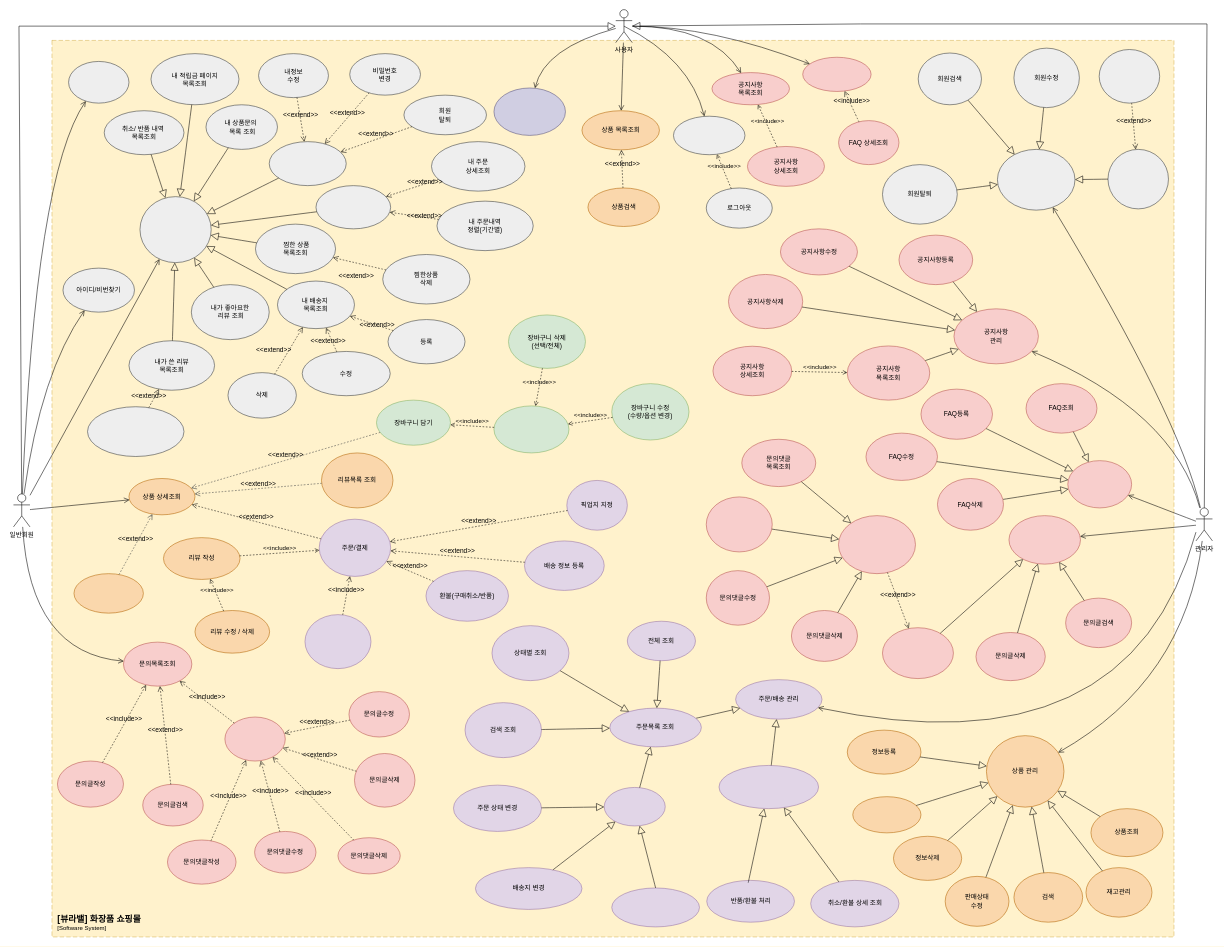
Image size: 1224x947. Some labels were removed from this diagram. Here are the shapes that lost their labels. From the top down, the box of each, then its label:
(68, 61, 129, 103): 회원가입
(802, 57, 871, 91): FAQ 목록조회
(1099, 49, 1160, 103): 회원상세조회
(493, 87, 565, 135): 1:1 채팅
(673, 116, 745, 155): 로그인
(269, 141, 346, 186): 내정보 조회
(997, 149, 1075, 210): 회원관리
(1107, 149, 1168, 209): 회원목록조회
(315, 185, 391, 229): 구매내역 목록조회
(139, 196, 211, 263): 마이페이지
(87, 406, 184, 457): 내 리뷰 상세조회
(493, 405, 569, 453): 장바구니 목록조회
(1067, 460, 1132, 508): FAQ관리
(706, 496, 772, 552): 문의댓글등록
(1008, 515, 1080, 564): 문의글관리
(838, 515, 915, 574): 문의댓글관리
(73, 573, 143, 613): 찜 / 해제
(304, 614, 371, 669): 적립금 적용
(882, 627, 953, 679): 문의글조회
(224, 716, 285, 761): 문의상세조회
(604, 787, 665, 826): 주문 변경
(718, 765, 819, 809): 취소/환불 신청 내역 조회
(852, 796, 921, 833): 정보수정
(611, 887, 699, 927): 배송 상태 변경
